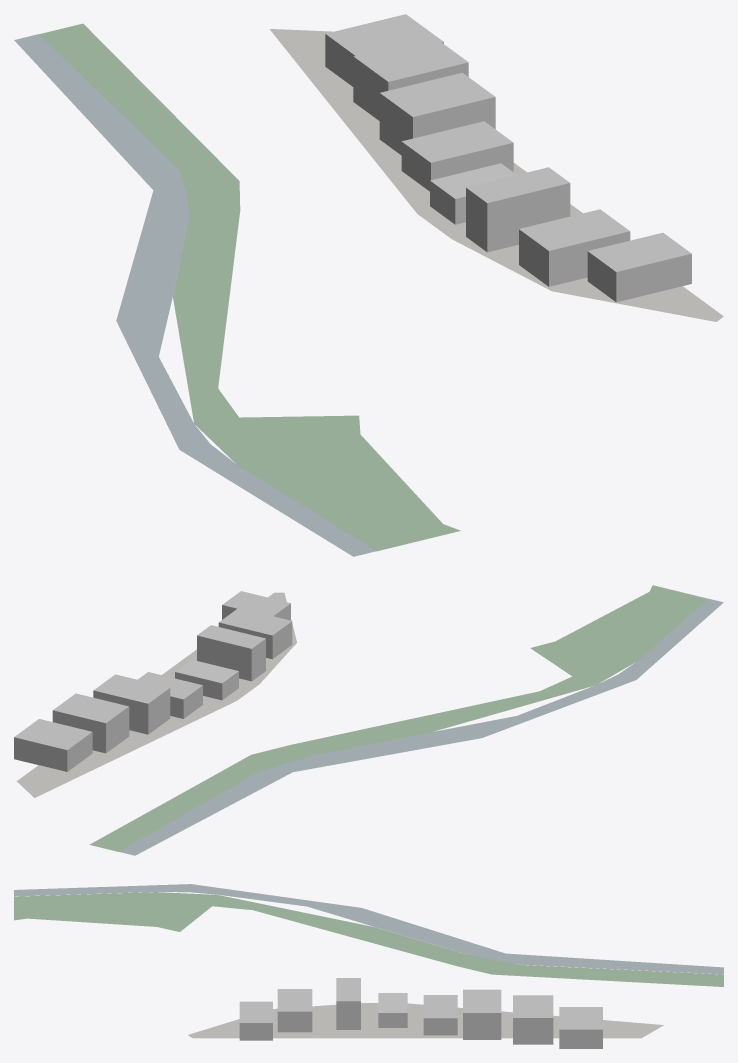
File: 100_86_mid.glb
3 views of the same model, one above another, from view 1: azimuth 30°, elevation 25°; view 2: azimuth 150°, elevation 25°; view 3: azimuth 270°, elevation 25° (orthographic). The views are drawn at different scales.
Size of the model in its own units: 274 by 22.3 by 500.
